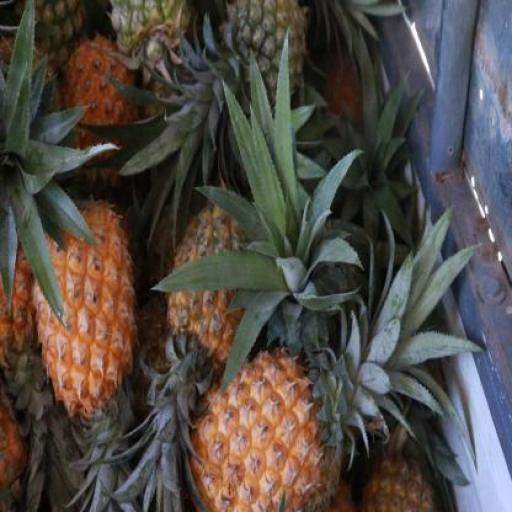Pineapple - v8 v1: (30, 191, 142, 417), (182, 348, 325, 511)
